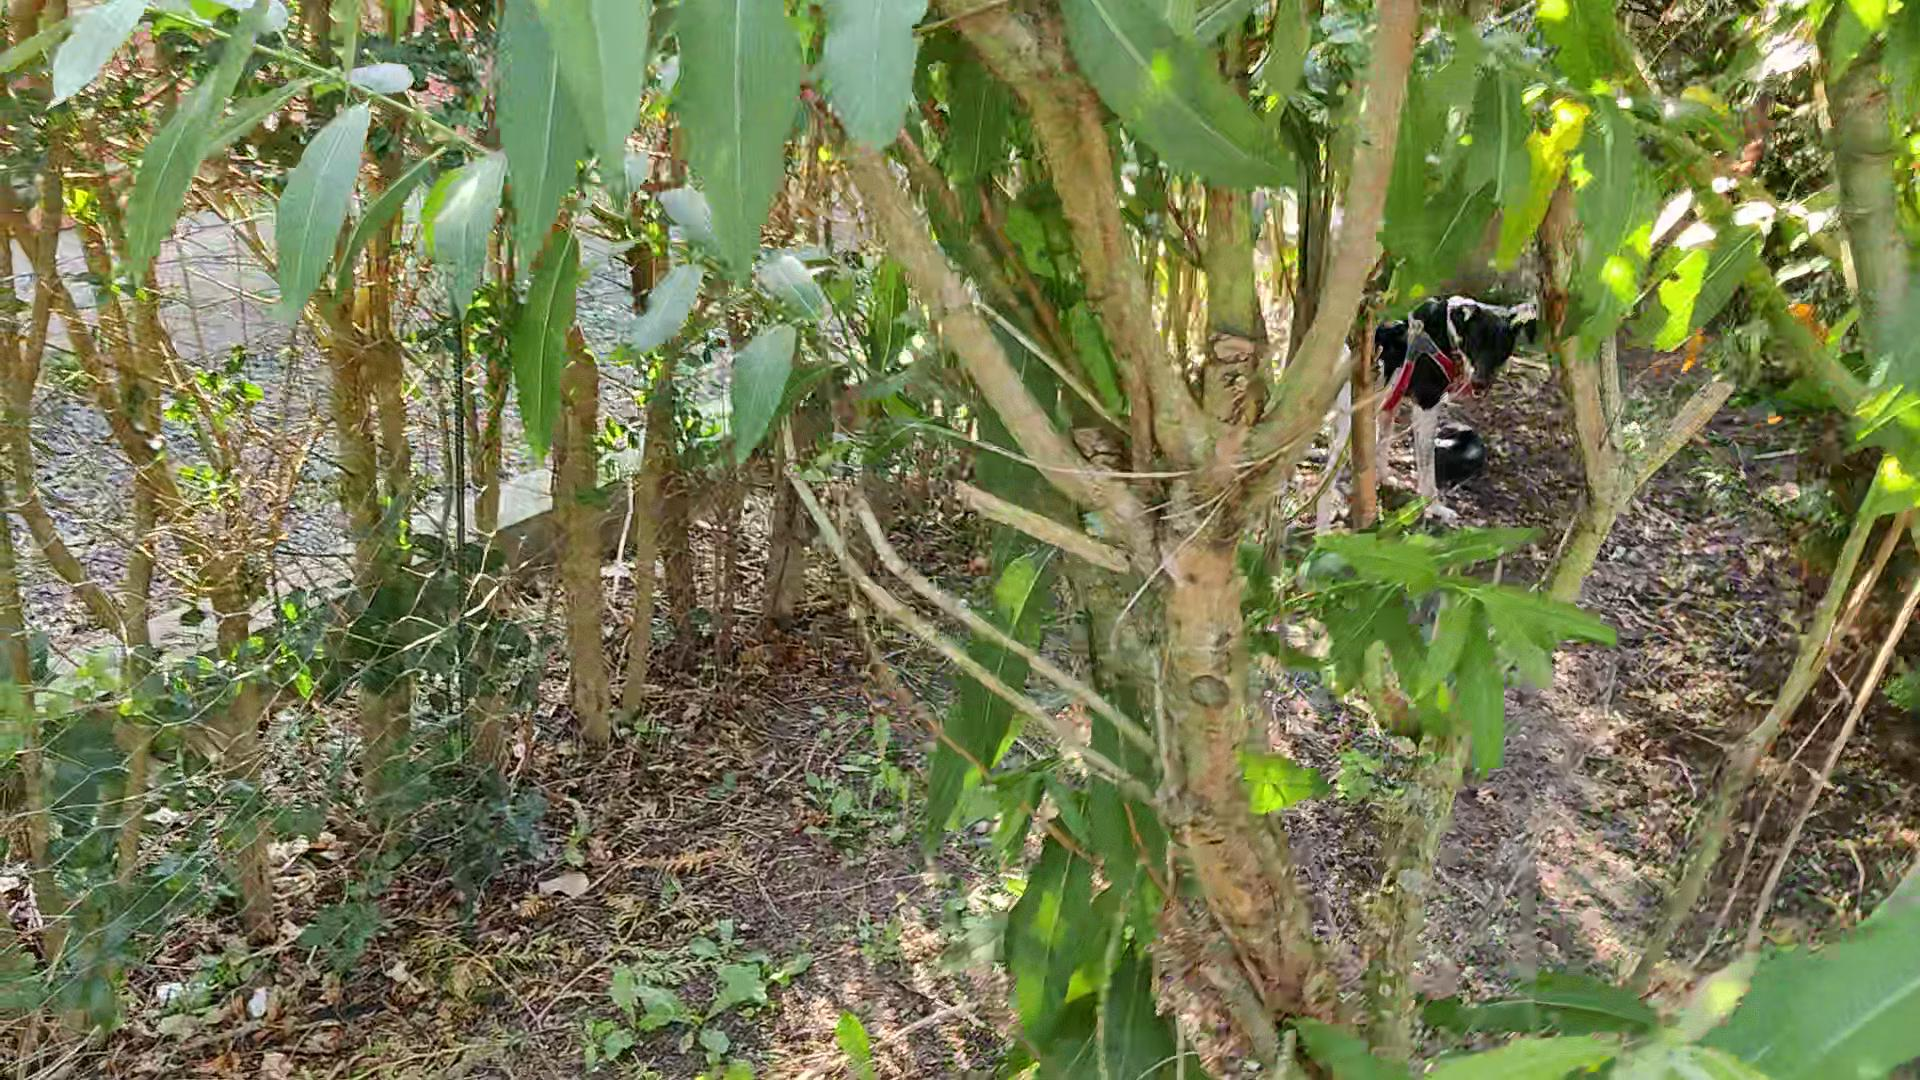Dog: (1288, 286, 1552, 538)
